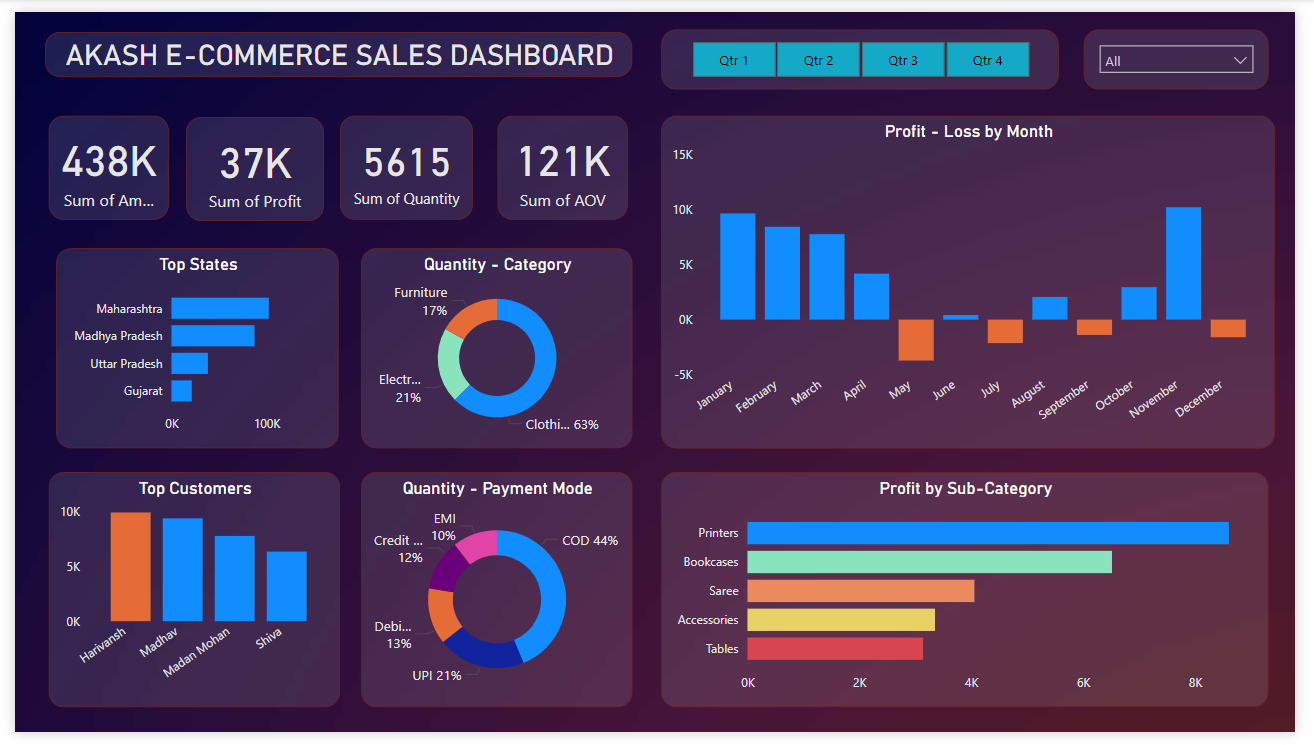

This screenshot's page, from the dashboard's own definition file:
{"tool":"powerbi","page":{"name":"Page 1","canvas":[1280,720],"ordinal":0},"visuals":[{"type":"columnChart","title":"Profit - Loss by Month","fields":{"Category":["Orders.Order Date.Variation.Date Hierarchy.Month"],"Y":["Details.Profit"]},"box":[646.2,103.8,613.8,332.5],"z":0},{"type":"textbox","title":"AKASH E-COMMERCE SALES DASHBOARD","box":[30,20,587.5,45],"z":1000},{"type":"barChart","title":"Profit by Sub-Category","fields":{"Y":["Details.Profit"],"Category":["Details.Sub-Category"]},"box":[646.2,460,607.5,235],"z":2000},{"type":"donutChart","title":"Quantity - Category","fields":{"Category":["Details.Category"],"Y":["Details.Quantity"]},"box":[346.2,236.2,271.2,200],"z":3000},{"type":"donutChart","title":"Quantity - Payment Mode","fields":{"Y":["Details.Quantity"],"Category":["Details.PaymentMode"]},"box":[346.2,460,271.2,235],"z":4000},{"type":"card","fields":{"Values":["Details.Amount"]},"box":[33.8,103.8,120,103.8],"z":5000},{"type":"card","fields":{"Values":["Details.Quantity"]},"box":[325,103.8,132.5,103.8],"z":6000},{"type":"card","fields":{"Values":["Details.Profit"]},"box":[171.2,105,137.5,103.8],"z":7000},{"type":"card","fields":{"Values":["Details.AOV"]},"box":[482.5,103.8,130,103.8],"z":8000},{"type":"clusteredBarChart","title":"Top States","fields":{"Category":["Orders.State"],"Y":["Details.Amount"]},"box":[41.2,236.2,282.5,200],"z":9000},{"type":"columnChart","title":"Top Customers","fields":{"Category":["Orders.CustomerName"],"Y":["Details.Amount"]},"box":[33.8,460,291.2,235],"z":10000},{"type":"slicer","fields":{"Values":["Orders.Order Date.Variation.Date Hierarchy.Quarter"]},"box":[646.2,17.5,397.5,60],"z":11000},{"type":"slicer","fields":{"Values":["Orders.State"]},"box":[1068.8,17.5,185,60],"z":12000}]}

Visuals, with their boxes in screenshot pixels (x1, y1, x2, y2), scaled from the page's 1280x720 canvas onto the 1314x745 screenshot:
"Profit - Loss by Month" columnChart: bbox=(663, 107, 1293, 451)
"AKASH E-COMMERCE SALES DASHBOARD" textbox: bbox=(31, 21, 634, 67)
"Profit by Sub-Category" barChart: bbox=(663, 476, 1287, 719)
"Quantity - Category" donutChart: bbox=(355, 244, 634, 451)
"Quantity - Payment Mode" donutChart: bbox=(355, 476, 634, 719)
card - Details.Amount: bbox=(35, 107, 158, 215)
card - Details.Quantity: bbox=(334, 107, 470, 215)
card - Details.Profit: bbox=(176, 109, 317, 216)
card - Details.AOV: bbox=(495, 107, 629, 215)
"Top States" clusteredBarChart: bbox=(42, 244, 332, 451)
"Top Customers" columnChart: bbox=(35, 476, 334, 719)
slicer - Orders.Order Date.Variation.Date Hierarchy.Quarter: bbox=(663, 18, 1071, 80)
slicer - Orders.State: bbox=(1097, 18, 1287, 80)
